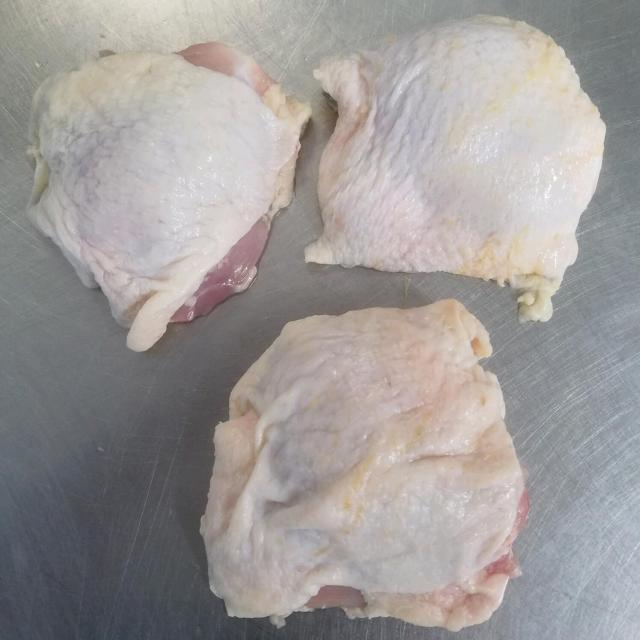chicken: (200, 299, 530, 632), (306, 14, 607, 321), (27, 42, 311, 352)
